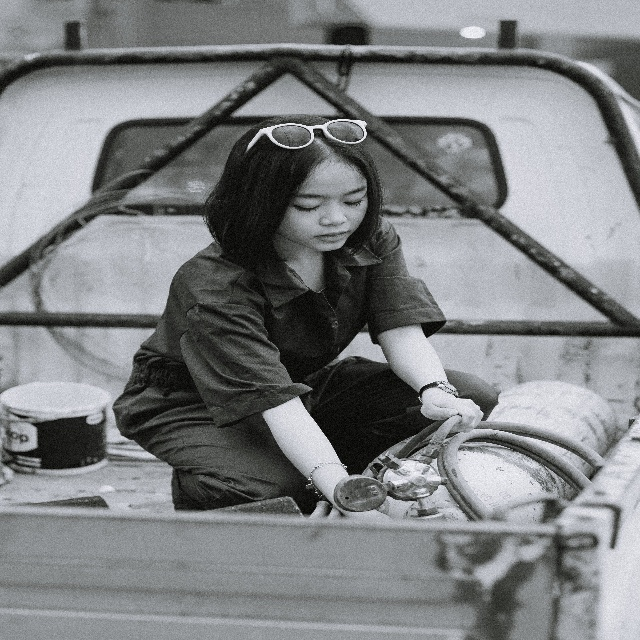Gafas: (244, 118, 367, 155)
Sin_guantes: (420, 387, 484, 434)
